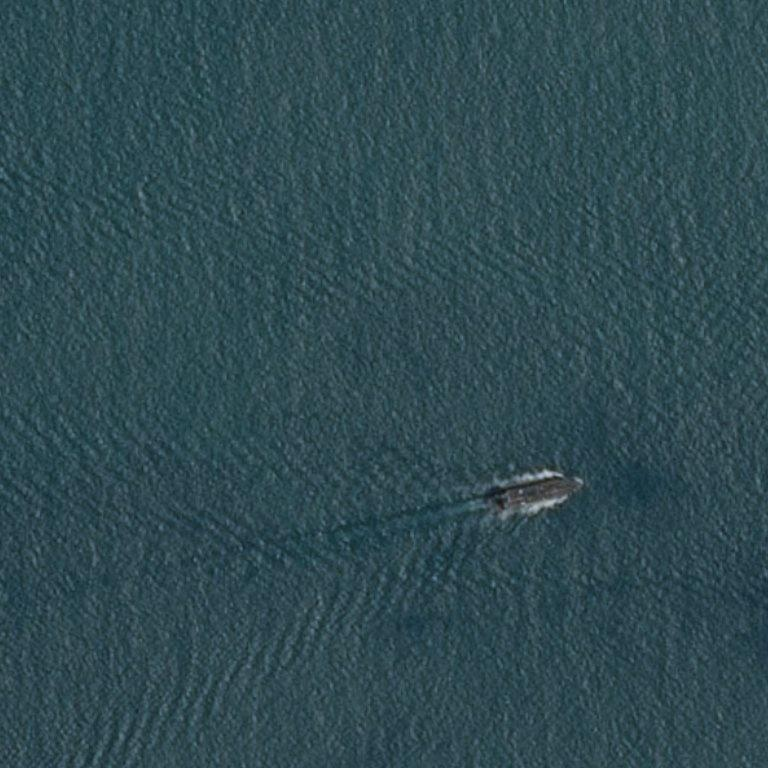ship: (488, 490, 586, 494)
